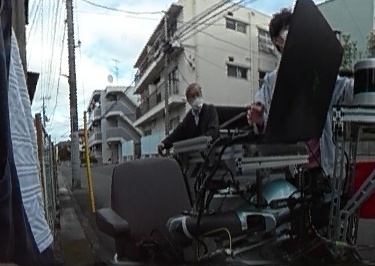person: (163, 82, 220, 139)
